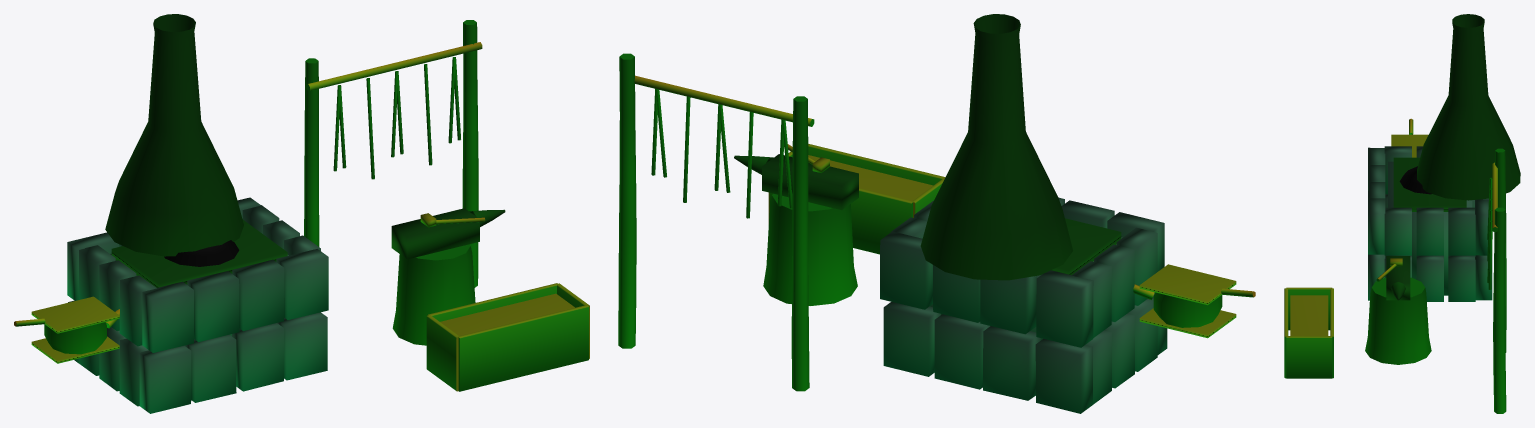
The model's file is beach_forge.glb.
3 renders of one model, left to right at view 1: azimuth 30°, elevation 25°; view 2: azimuth 150°, elevation 25°; view 3: azimuth 270°, elevation 25°, orthographic. The views are drawn at different scales.
Parts seen in each view (by area): view 1: beach_forge; view 2: beach_forge; view 3: beach_forge.
Boxes of the visible parts, left/top/right/bottom form: beach_forge: left=14, top=14, right=589, bottom=413; beach_forge: left=618, top=14, right=1255, bottom=413; beach_forge: left=1284, top=14, right=1520, bottom=413.
Size of what is drawn, in the model's own units: 3.62 by 2.36 by 1.85.
